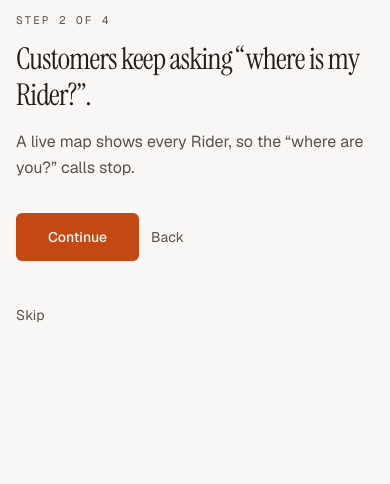
Test: Onboarding insight + personalization (slice 02 contract) › result screen routes merchant to /deliveries/new and persists answers
Click the button "Continue". click: (78, 236)
box: x1=16 y1=212 x2=139 y2=260
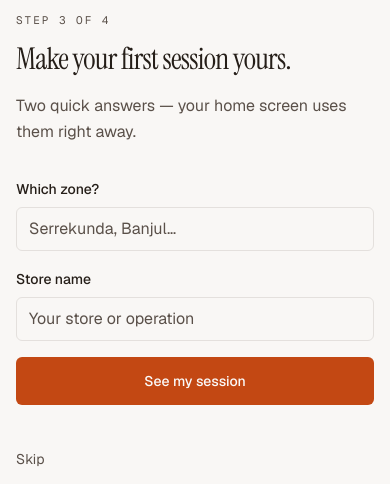
Type "Serrekunda" into the field labelled "Which zone?". click: (195, 228)
box: x1=16 y1=206 x2=374 y2=250
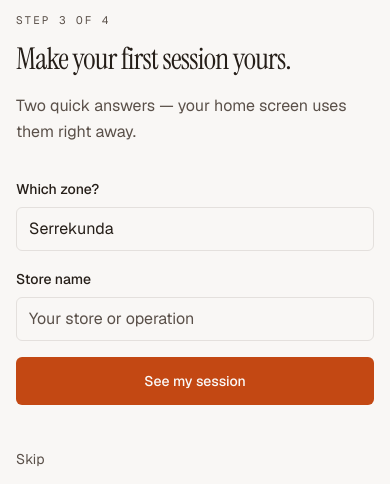
Type "Test detail" into the field labelled "Store name". click: (195, 318)
box: x1=16 y1=296 x2=374 y2=340
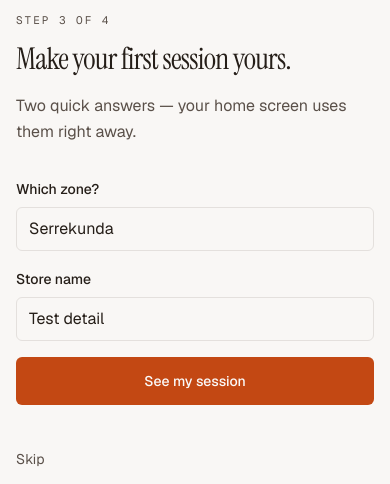
Click the button "See my session". click: (195, 380)
box: x1=16 y1=356 x2=374 y2=404
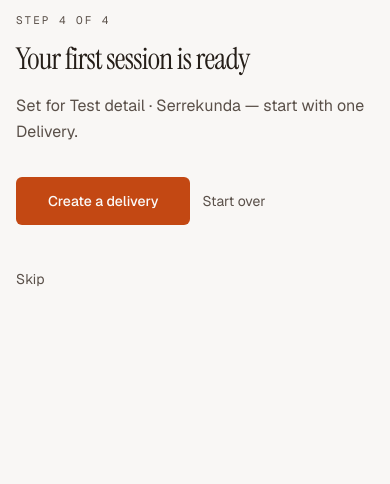
Check: the heading "Your first session is ready" is shown, box x1=16 y1=38 x2=250 y2=78
